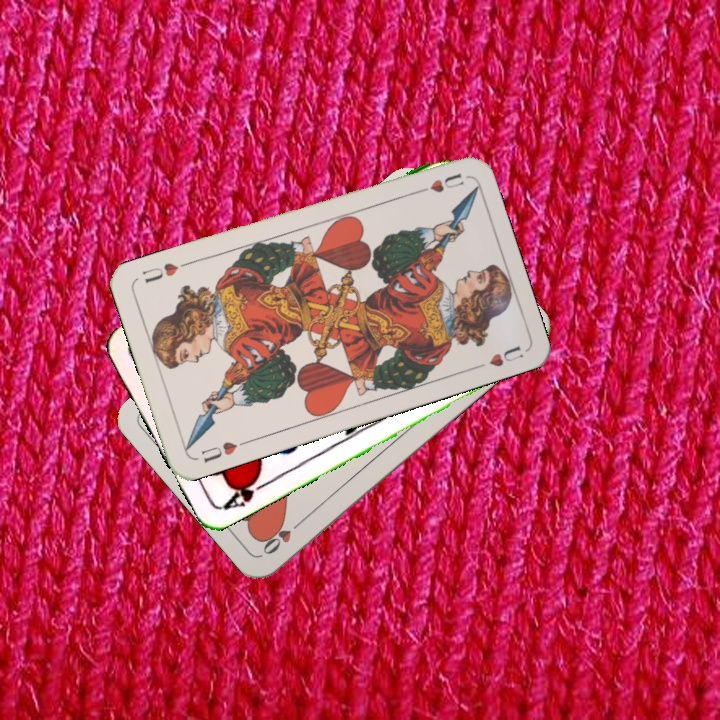HA: (218, 469, 272, 513)
HO: (258, 514, 307, 558)
HU: (410, 169, 467, 197), (196, 437, 240, 466)
